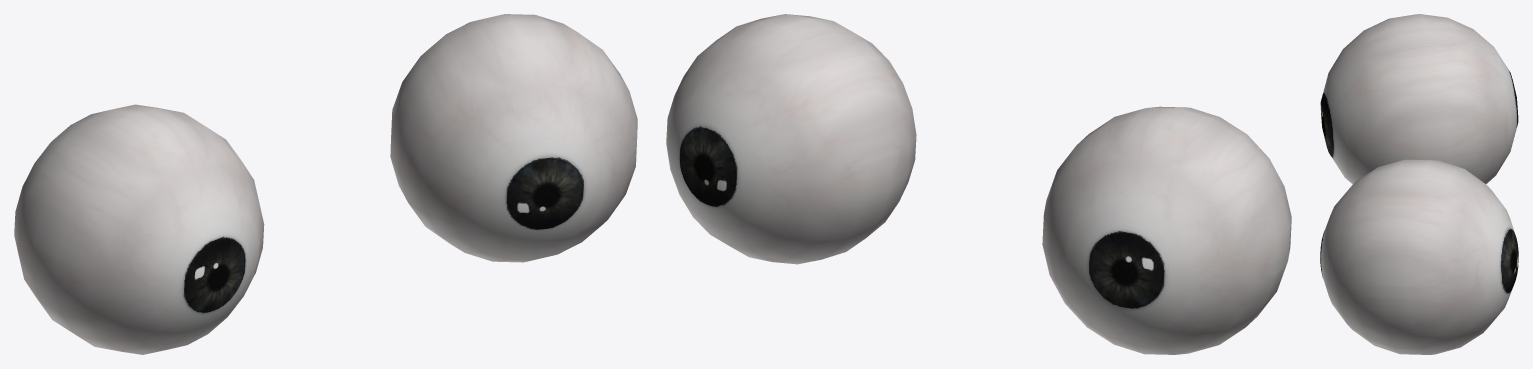
Rendered from hitman_eyes.FBX.
3 views of the same model, side by side, from view 1: azimuth 30°, elevation 25°; view 2: azimuth 150°, elevation 25°; view 3: azimuth 270°, elevation 25° (orthographic). The views are drawn at different scales.
Visible parts, largest first — view 1: Sphere009, Sphere010; view 2: Sphere010, Sphere009; view 3: Sphere009, Sphere010.
Part boxes in pixels (left/top/right/bottom): Sphere009: left=390, top=14, right=637, bottom=262; Sphere010: left=14, top=104, right=264, bottom=354; Sphere010: left=1042, top=106, right=1291, bottom=354; Sphere009: left=666, top=14, right=916, bottom=264; Sphere009: left=1320, top=159, right=1518, bottom=354; Sphere010: left=1320, top=14, right=1518, bottom=184.
Size of the model in its own units: 12.81 by 4.71 by 4.72.
